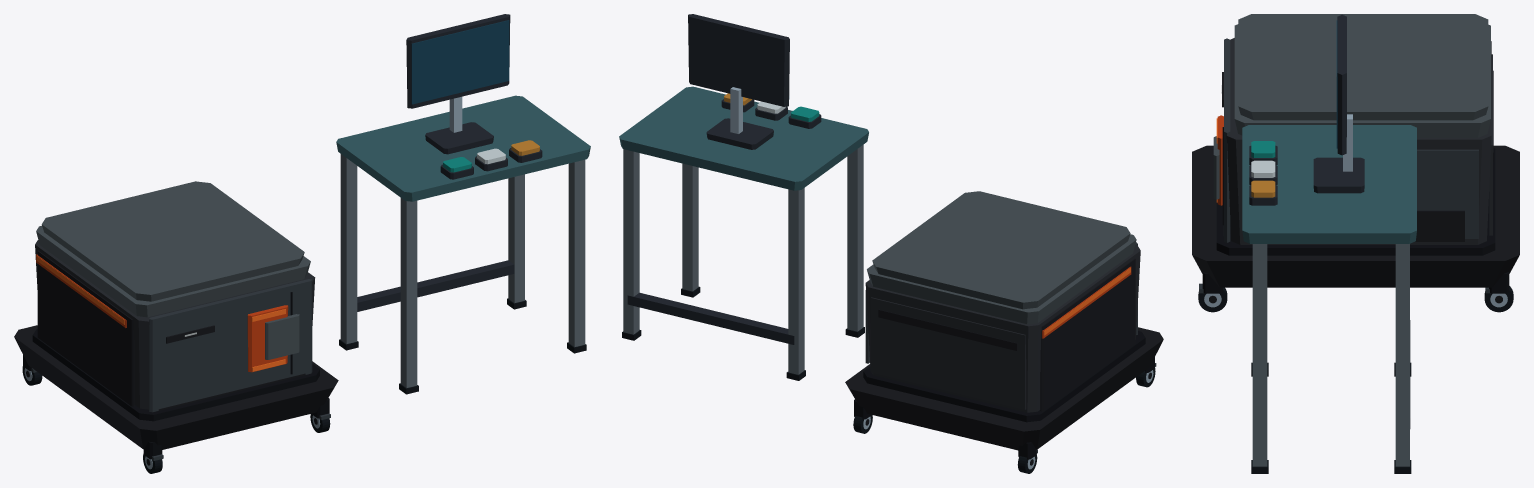
The model's file is iconeus-one-lower-cart.glb.
3 views of the same model, side by side, from view 1: azimuth 30°, elevation 25°; view 2: azimuth 150°, elevation 25°; view 3: azimuth 270°, elevation 25° (orthographic). The views are drawn at different scales.
Parts seen in each view (by area): view 1: lower_cart, diagram_desk, opaque_front, display, side_skin, casters, select_growth, select_zero; view 2: lower_cart, diagram_desk, rear_blank, display, side_skin, casters, select_growth; view 3: lower_cart, diagram_desk, side_skin, display, opaque_front, casters, select_zero, select_mixed, rear_blank, select_growth.
Part boxes in pixels (x1,y1,x2,y2): lower_cart: (14, 181, 338, 449); diagram_desk: (336, 95, 590, 394); opaque_front: (149, 279, 312, 412); display: (406, 14, 510, 154); side_skin: (36, 250, 134, 406); casters: (22, 355, 330, 473); select_growth: (440, 157, 473, 179); select_zero: (509, 140, 542, 162); lower_cart: (845, 191, 1163, 450); diagram_desk: (619, 86, 868, 380); rear_blank: (871, 297, 1026, 409); display: (688, 14, 789, 149); side_skin: (865, 258, 1135, 411); casters: (853, 357, 1156, 473); select_growth: (788, 106, 821, 128); lower_cart: (1192, 14, 1519, 287); diagram_desk: (1242, 125, 1416, 473); side_skin: (1415, 149, 1478, 241); display: (1313, 14, 1364, 193); opaque_front: (1213, 38, 1230, 242); casters: (1198, 272, 1513, 312); select_zero: (1249, 180, 1277, 205); select_mixed: (1249, 160, 1277, 185); rear_blank: (1489, 54, 1493, 235); select_growth: (1249, 141, 1277, 165).
Bounding box in the file's own units: 1.91 × 1.23 × 0.974.
